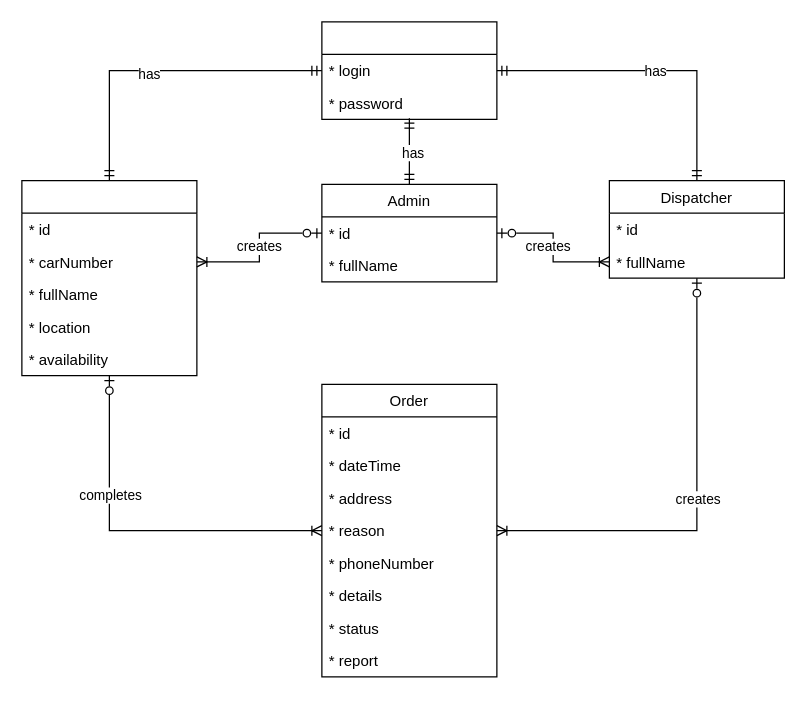
This 806x703 diagram has some shape labels left out. Here are the shapes that lost their labels. From the top down, the box of each, then its label:
(321, 21, 497, 119): Account
(21, 179, 197, 376): Master
